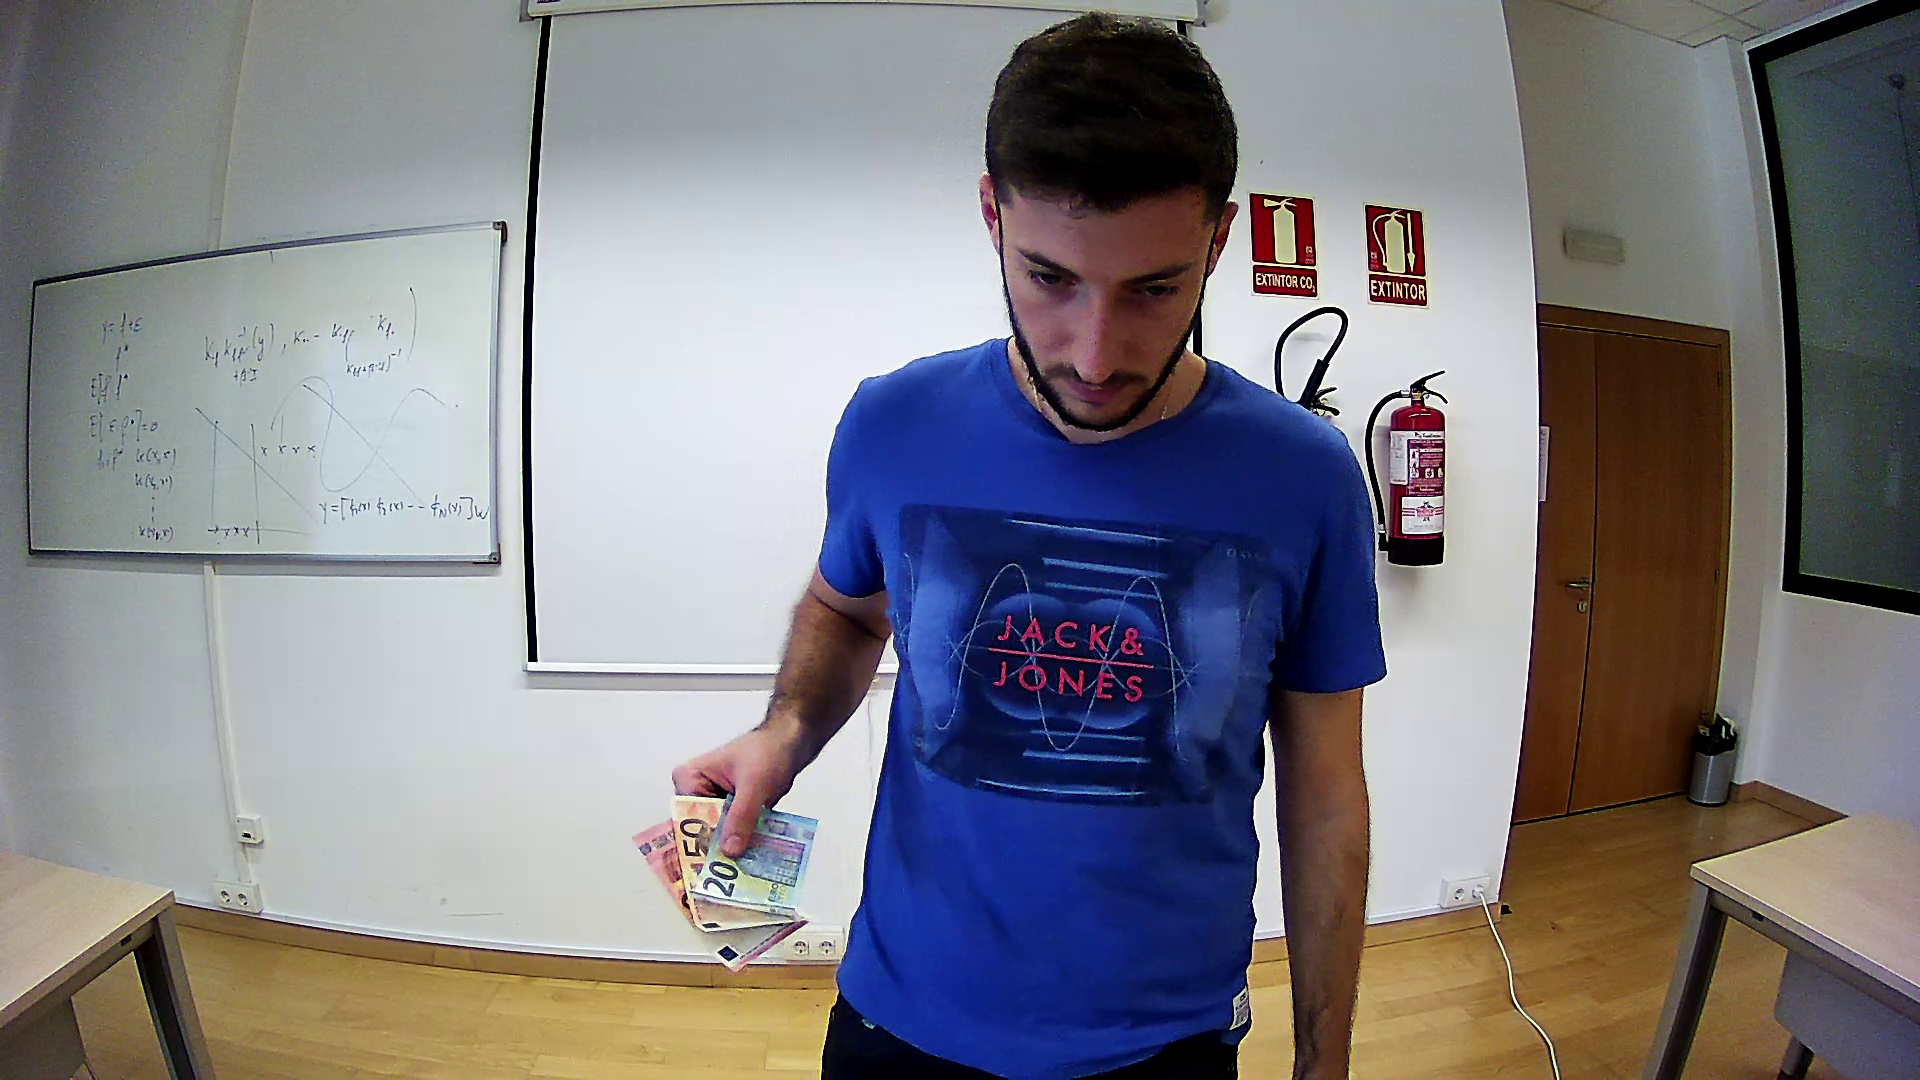billete: (632, 816, 812, 975), (669, 794, 810, 934), (687, 794, 818, 918)
